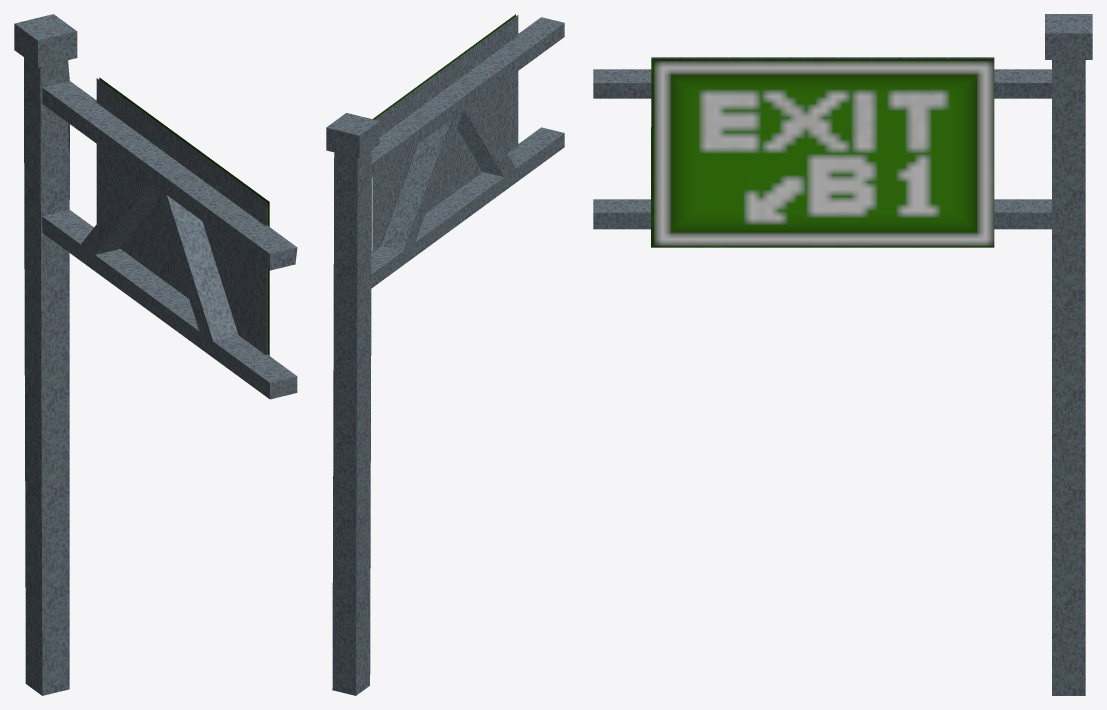
File: BGN_HWAY EXIT.fbx
3 views of the same model, side by side, from view 1: azimuth 30°, elevation 25°; view 2: azimuth 150°, elevation 25°; view 3: azimuth 270°, elevation 25° (orthographic). The views are drawn at different scales.
Parts seen in each view (by area): view 1: BGN_HWAY_EXIT; view 2: BGN_HWAY_EXIT; view 3: BGN_HWAY_EXIT.
Part boxes in pixels (<box>): BGN_HWAY_EXIT: <box>14,14,297,695</box>; BGN_HWAY_EXIT: <box>326,14,564,695</box>; BGN_HWAY_EXIT: <box>593,14,1092,695</box>.
Bounding box in the file's own units: 41.39 × 668 × 454.
